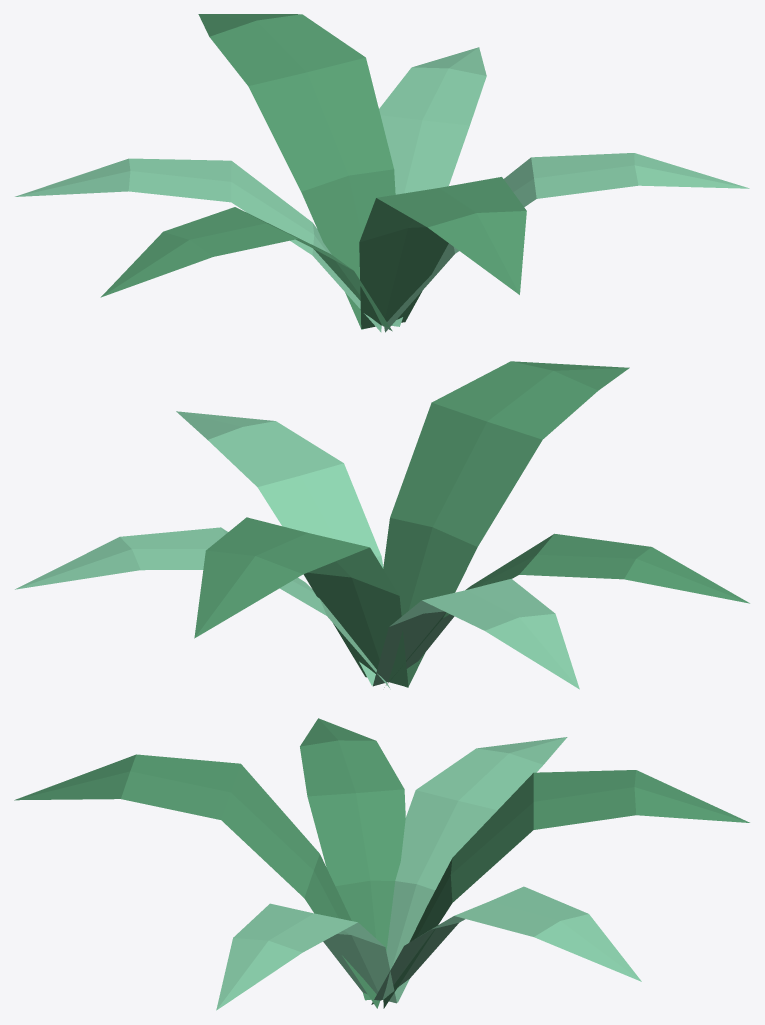
File: Grass_2.fbx
The picture shows the model from 3 angles, top to bottom: view 1: azimuth 30°, elevation 25°; view 2: azimuth 150°, elevation 25°; view 3: azimuth 270°, elevation 25°; orthographic projection. The views are drawn at different scales.
Parts seen in each view (by area): view 1: Plane.001; view 2: Plane.001; view 3: Plane.001.
Part boxes in pixels (x1,y1,x2,y2): Plane.001: [15, 14, 749, 332]; Plane.001: [15, 361, 749, 689]; Plane.001: [14, 718, 749, 1010].
Size of the model in its own units: 0.5606 by 0.5968 by 0.19.
